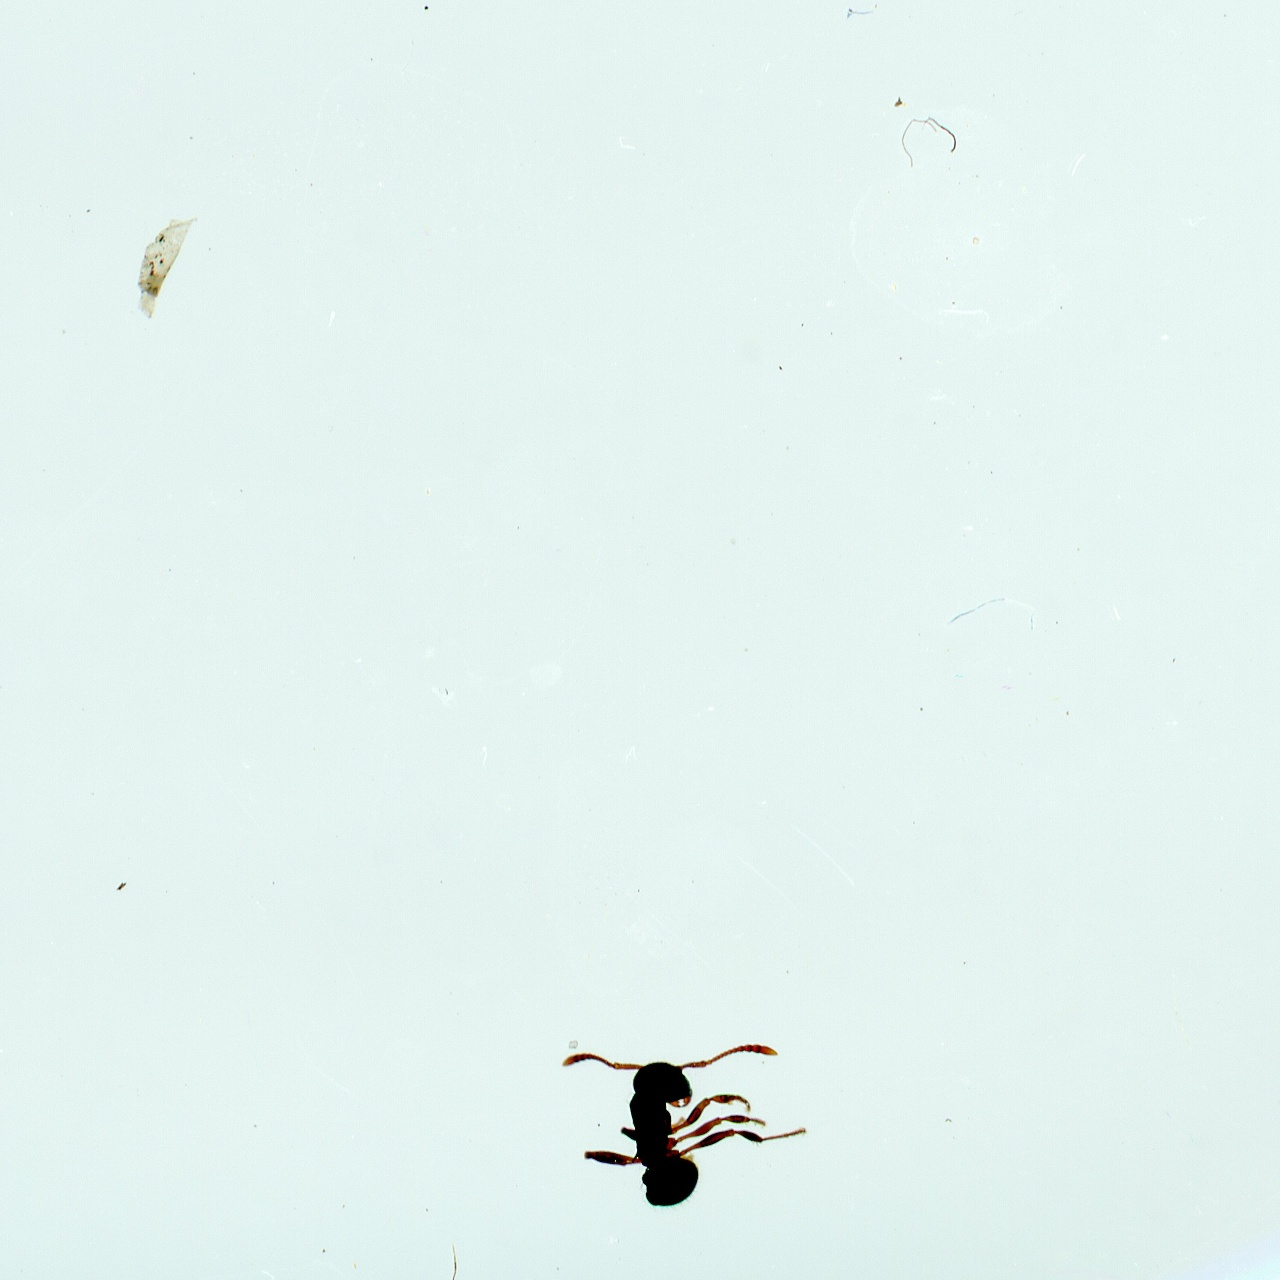arthropod: (540, 1040, 819, 1214)
